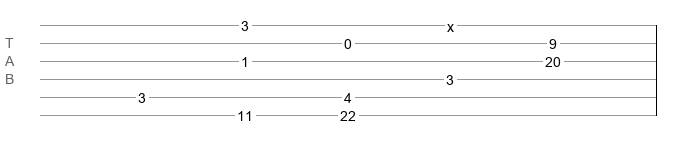0: (344, 36, 352, 46)
1: (241, 54, 249, 64)
11: (237, 108, 253, 118)
20: (545, 54, 561, 64)
22: (340, 108, 356, 118)
3: (138, 90, 146, 100), (241, 18, 249, 28), (446, 72, 454, 82)
4: (344, 90, 352, 100)
9: (549, 36, 557, 46)
x: (447, 19, 454, 27)
